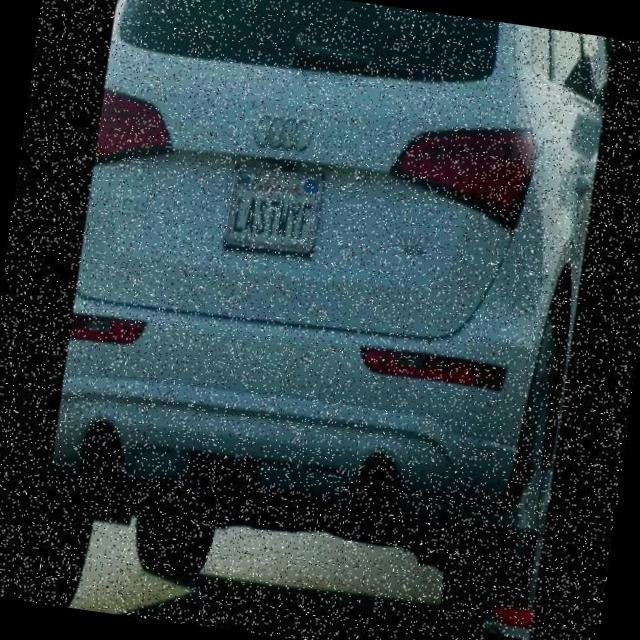LicensePlate: (213, 146, 338, 268)
